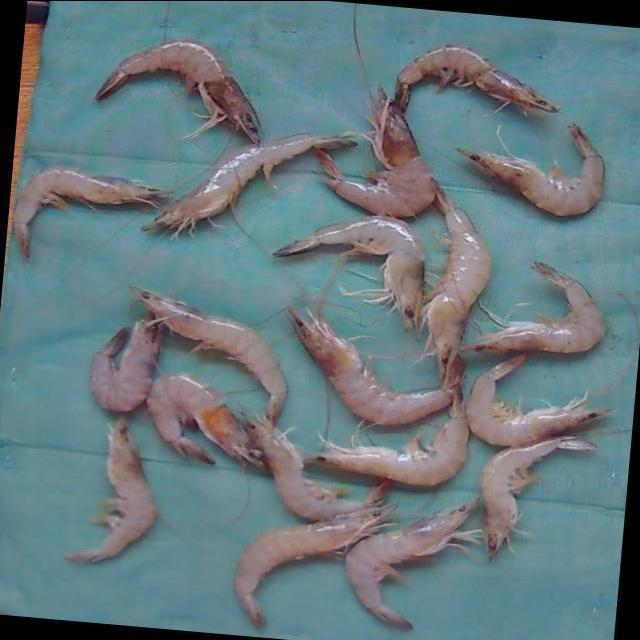shrimp: (130, 286, 286, 426), (142, 132, 356, 232), (288, 307, 465, 423), (233, 505, 395, 626), (345, 500, 481, 628), (273, 213, 425, 327), (305, 380, 469, 485), (95, 38, 259, 140), (316, 87, 435, 215), (246, 418, 388, 520), (12, 164, 169, 256), (481, 436, 597, 558), (422, 175, 491, 374), (457, 122, 605, 214), (461, 260, 606, 352), (63, 417, 155, 562), (466, 354, 609, 445), (145, 372, 264, 466), (395, 42, 559, 110), (89, 319, 160, 411)
